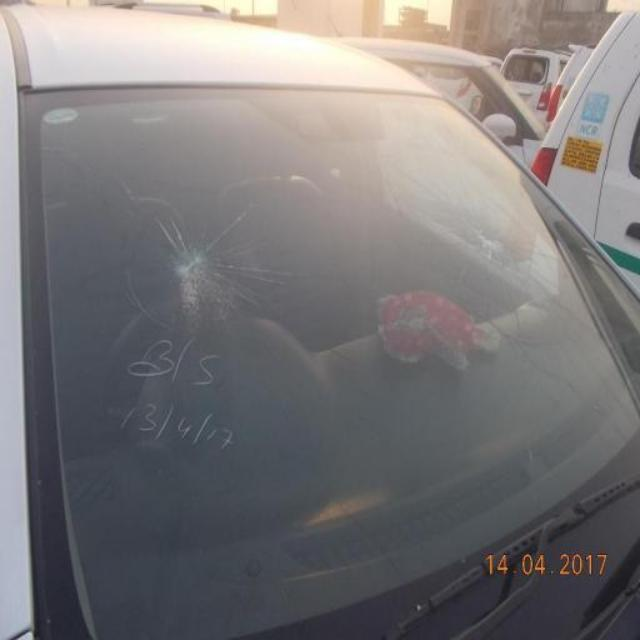glass shatter: (154, 238, 226, 296), (467, 212, 518, 263)
